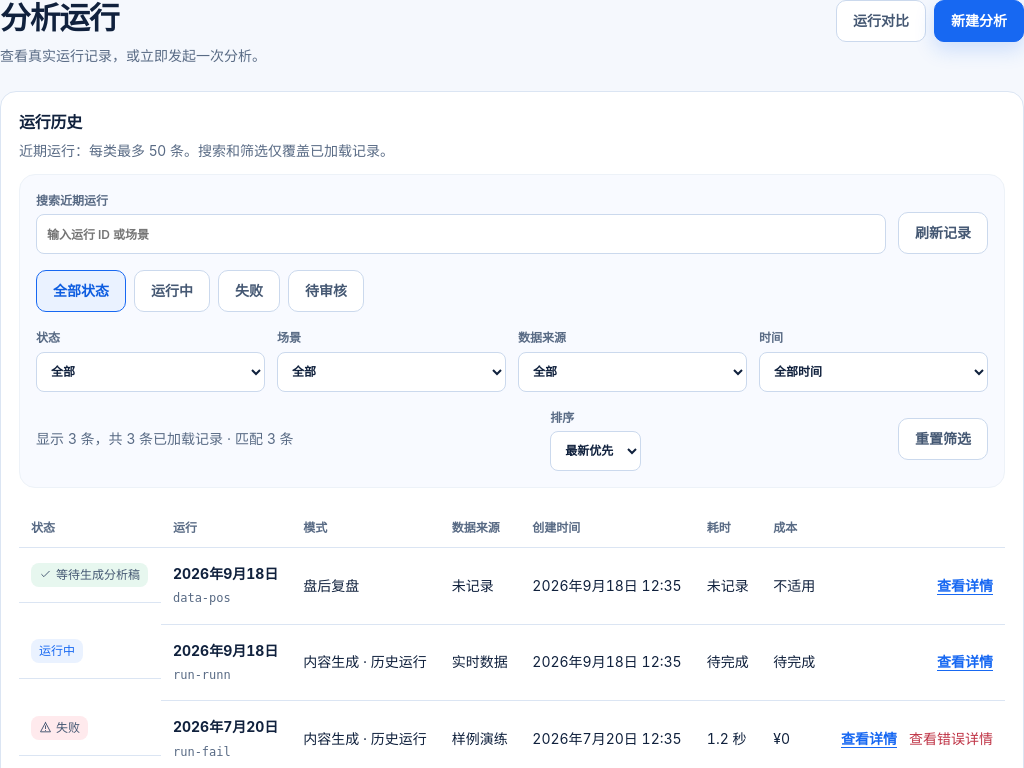
Test: filters by scene and time range and exposes only stored failure detail
Expected: the text titled "run-running" is shown, [173, 668, 231, 682]
Select "盘后复盘" in the dropdown named "按场景筛选" at (392, 372), box [277, 352, 506, 392]
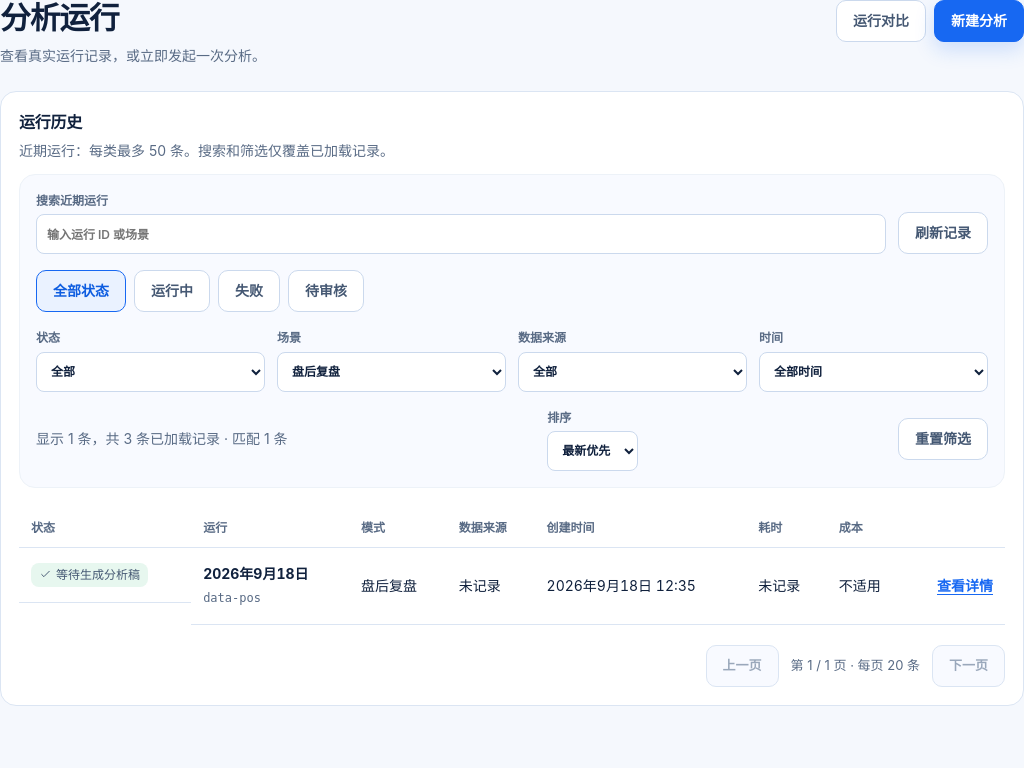
Expected: the text titled "data-post-close" is shown, [203, 591, 261, 605]
Now the text titled "run-running" is gone
Click the button "重置筛选" at (943, 439), box [898, 418, 988, 460]
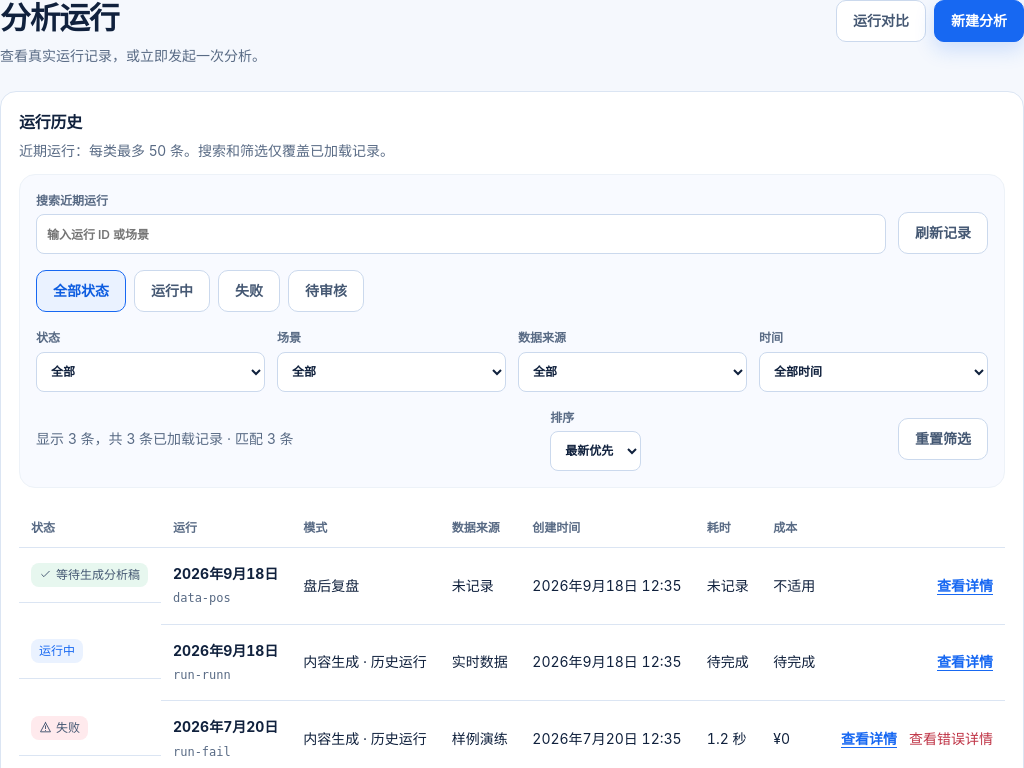
Select "最近 7 天" in the dropdown named "按时间范围筛选" at (874, 372), box [759, 352, 988, 392]
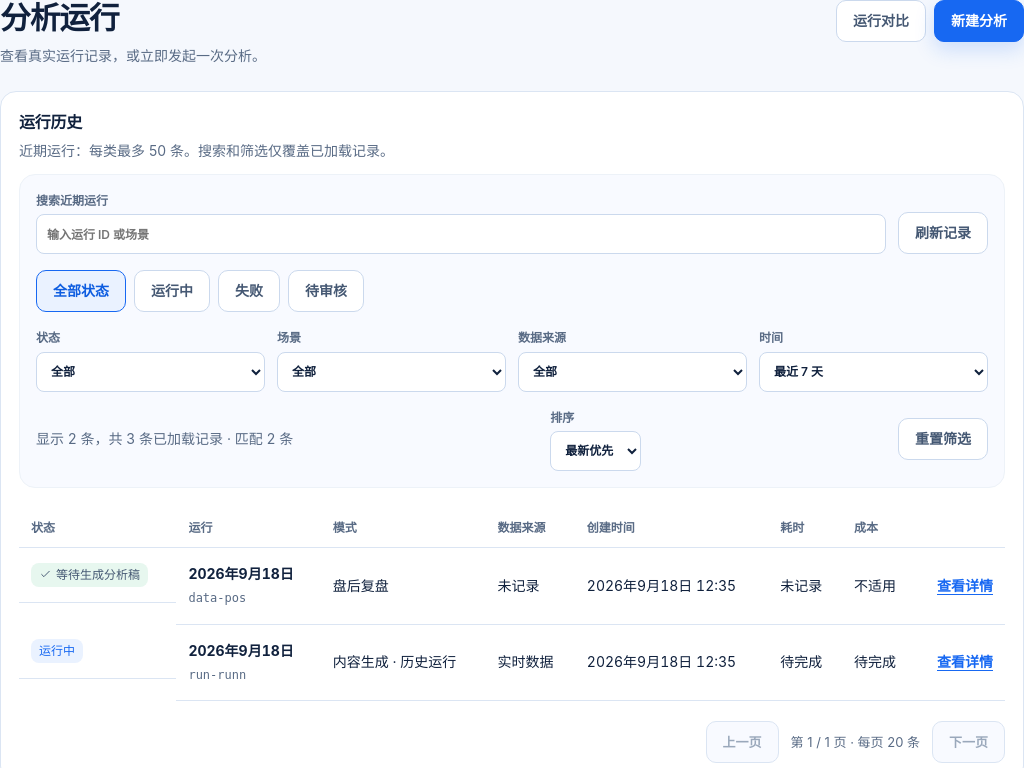
Now the text titled "run-failed" is gone
Now the text "显示 2 条，共 3 条已加载记录 · 匹配 2 条" is shown, box [36, 428, 293, 450]
Select "全部时间" in the dropdown named "按时间范围筛选" at (874, 372), box [759, 352, 988, 392]
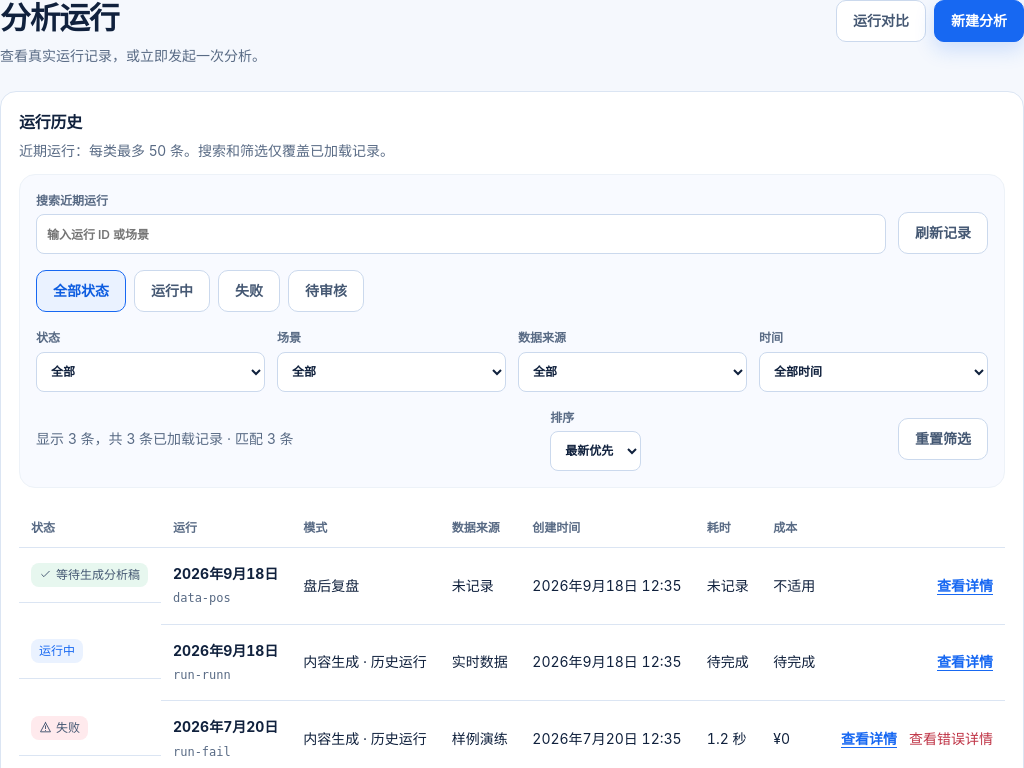
Click the button "查看错误详情" at (951, 739), box [909, 728, 993, 750]
(page scrolled)
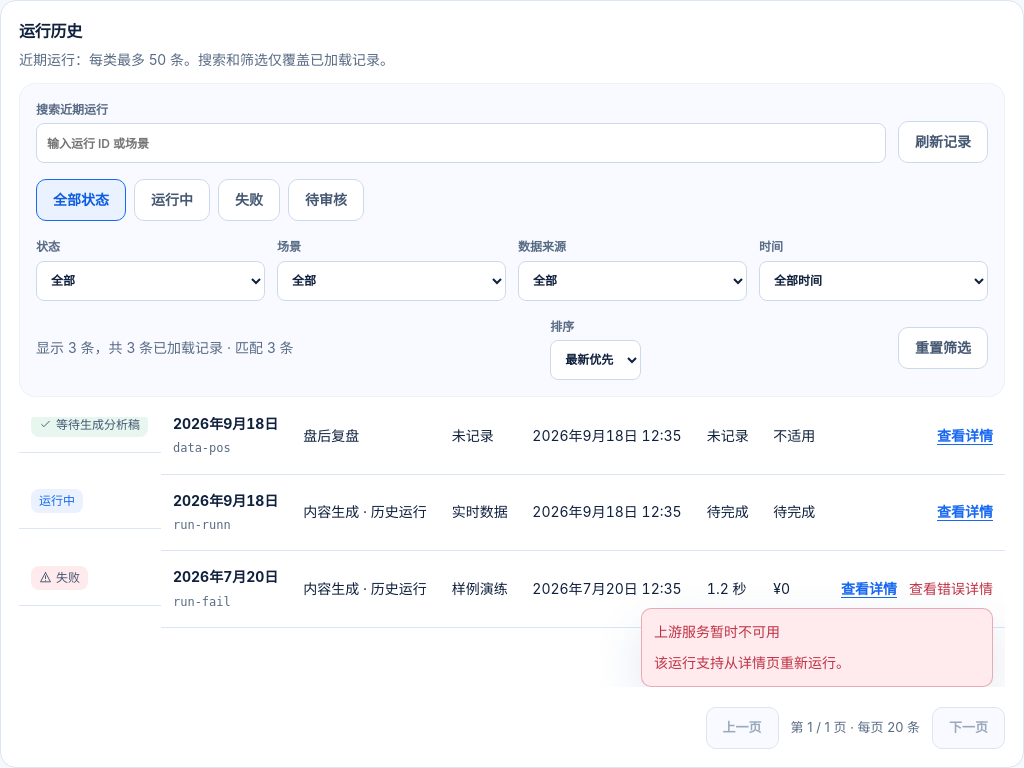
Now the text "上游服务暂时不可用" is shown, box [654, 623, 780, 640]
Now the text "该运行支持从详情页重新运行。" is shown, box [654, 654, 850, 670]
